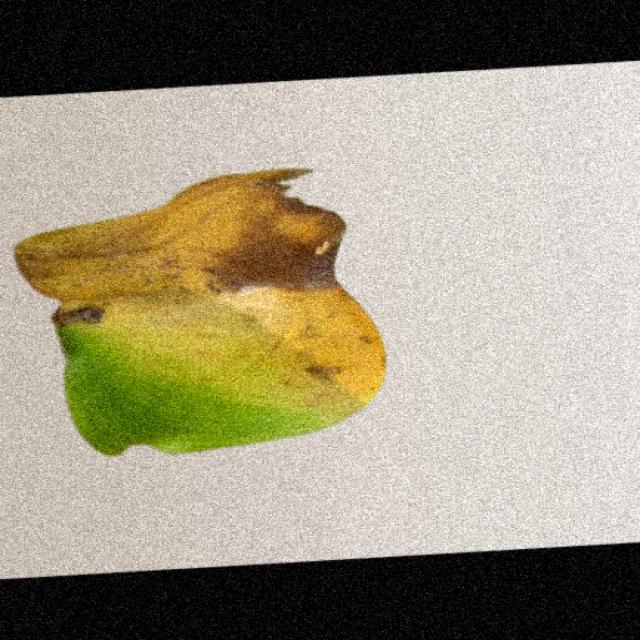daun berpenyakit kuning: (17, 169, 385, 454)
